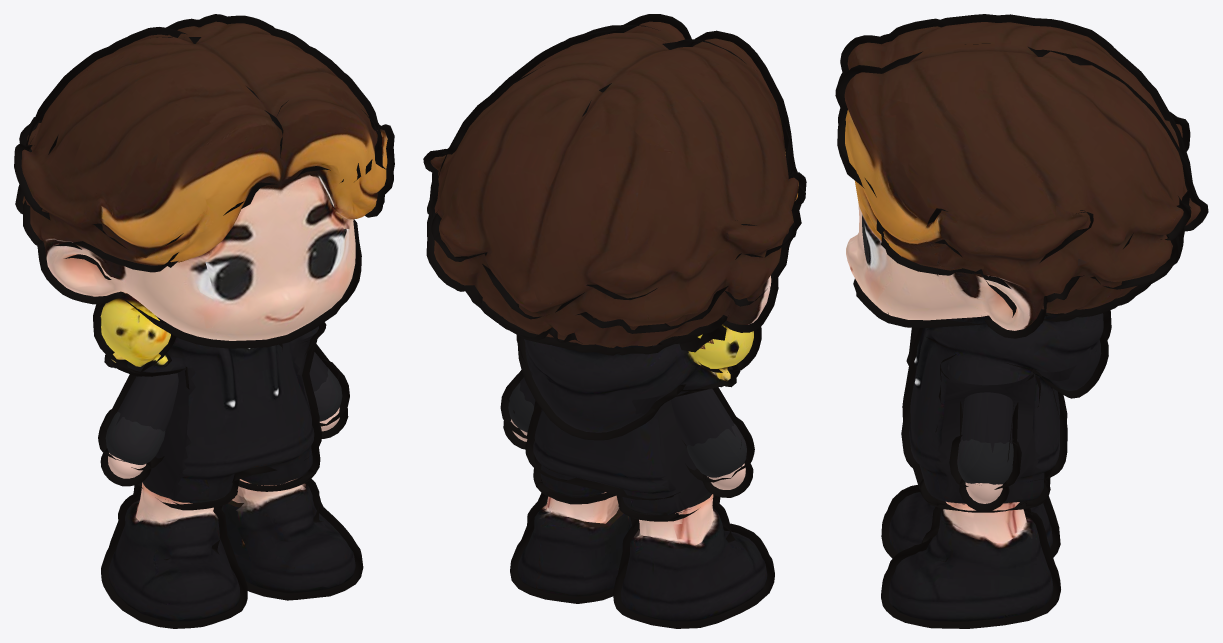
File: machi.glb
The picture shows the model from 3 angles, left to right: view 1: azimuth 30°, elevation 25°; view 2: azimuth 150°, elevation 25°; view 3: azimuth 270°, elevation 25°; orthographic projection.
Visible parts, largest first — view 1: machi_head__tex_n, machi_body__tex_n, machi_legR__tex_n, machi_head__ink_n, machi_legL__tex_n, machi_armR__arm_n, machi_body__ink_n, machi_legR__ink_n, machi_body__cloth_n, machi_legL__ink_n, machi_armL__arm_n, machi_armR__ink_n (+1 smaller); view 2: machi_head__tex_n, machi_body__tex_n, machi_head__ink_n, machi_legR__tex_n, machi_legL__tex_n, machi_body__ink_n, machi_armR__arm_n, machi_legR__ink_n, machi_body__cloth_n, machi_legL__ink_n, machi_armR__ink_n, machi_armL__arm_n (+1 smaller); view 3: machi_head__tex_n, machi_body__tex_n, machi_legL__tex_n, machi_head__ink_n, machi_armL__arm_n, machi_body__cloth_n, machi_body__ink_n, machi_legL__ink_n, machi_legR__tex_n, machi_armL__ink_n, machi_legR__ink_n.
Part boxes in pixels (box(x1,y1,x2,y2)): machi_head__tex_n: box(21, 21, 387, 340); machi_body__tex_n: box(100, 293, 318, 502); machi_legR__tex_n: box(108, 480, 240, 621); machi_head__ink_n: box(14, 14, 394, 348); machi_legL__tex_n: box(221, 476, 355, 593); machi_armR__arm_n: box(105, 373, 178, 478); machi_body__ink_n: box(93, 303, 326, 510); machi_legR__ink_n: box(101, 483, 247, 628); machi_body__cloth_n: box(144, 334, 314, 500); machi_legL__ink_n: box(239, 467, 363, 600); machi_armL__arm_n: box(309, 352, 342, 431); machi_armR__ink_n: box(98, 374, 165, 486); machi_head__tex_n: box(430, 21, 798, 348); machi_body__tex_n: box(524, 324, 753, 514); machi_head__ink_n: box(423, 14, 806, 355); machi_legR__tex_n: box(621, 492, 767, 621); machi_legL__tex_n: box(517, 486, 631, 596); machi_body__ink_n: box(516, 326, 761, 521); machi_armR__arm_n: box(670, 388, 746, 489); machi_legR__ink_n: box(613, 496, 774, 628); machi_body__cloth_n: box(529, 369, 709, 511); machi_legL__ink_n: box(510, 479, 614, 603); machi_armR__ink_n: box(682, 387, 754, 497); machi_armL__arm_n: box(508, 377, 535, 441); machi_head__tex_n: box(844, 22, 1200, 330); machi_body__tex_n: box(909, 313, 1103, 503); machi_legL__tex_n: box(888, 494, 1053, 621); machi_head__ink_n: box(835, 14, 1208, 338); machi_armL__arm_n: box(957, 392, 1013, 503); machi_body__cloth_n: box(936, 365, 1076, 503); machi_body__ink_n: box(901, 310, 1111, 512); machi_legL__ink_n: box(881, 479, 1060, 628); machi_legR__tex_n: box(889, 492, 1052, 553); machi_armL__ink_n: box(949, 396, 1021, 511); machi_legR__ink_n: box(881, 485, 1060, 558).
Size of the model in its own units: 4.06 by 6.12 by 3.82.
Materials: 4 (2 with a texture image).
